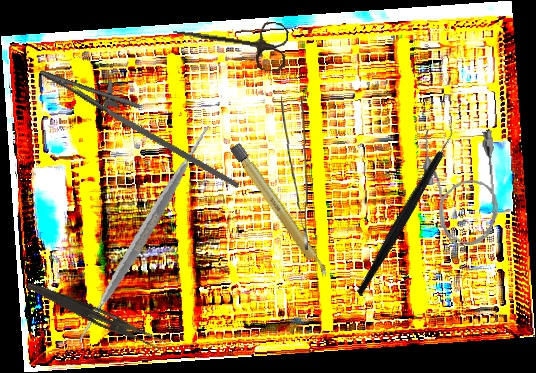Cannula: (419, 123, 504, 249)
Chopper: (309, 118, 500, 297)
Dressing Forceps: (23, 279, 166, 351)
Iris Scissors: (169, 10, 290, 73)
Needle Holder: (27, 52, 258, 190)
Scalpel Handle: (228, 141, 332, 282)
Spatula Surgical: (34, 123, 253, 344)
Tissue Forceps: (278, 95, 311, 251)
